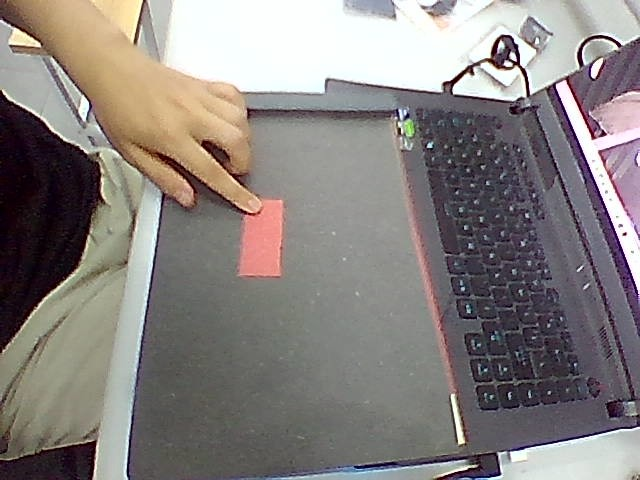card: (238, 200, 282, 276)
